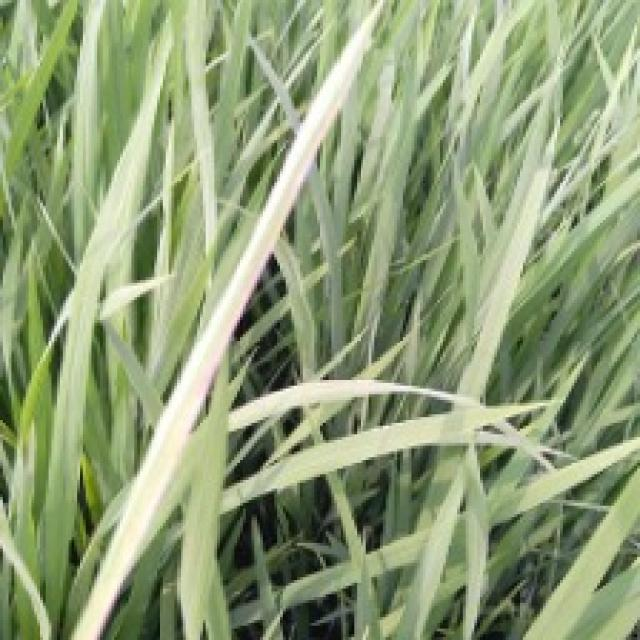Rice___Bacterial_Leaf_Blight: (73, 0, 387, 637)
